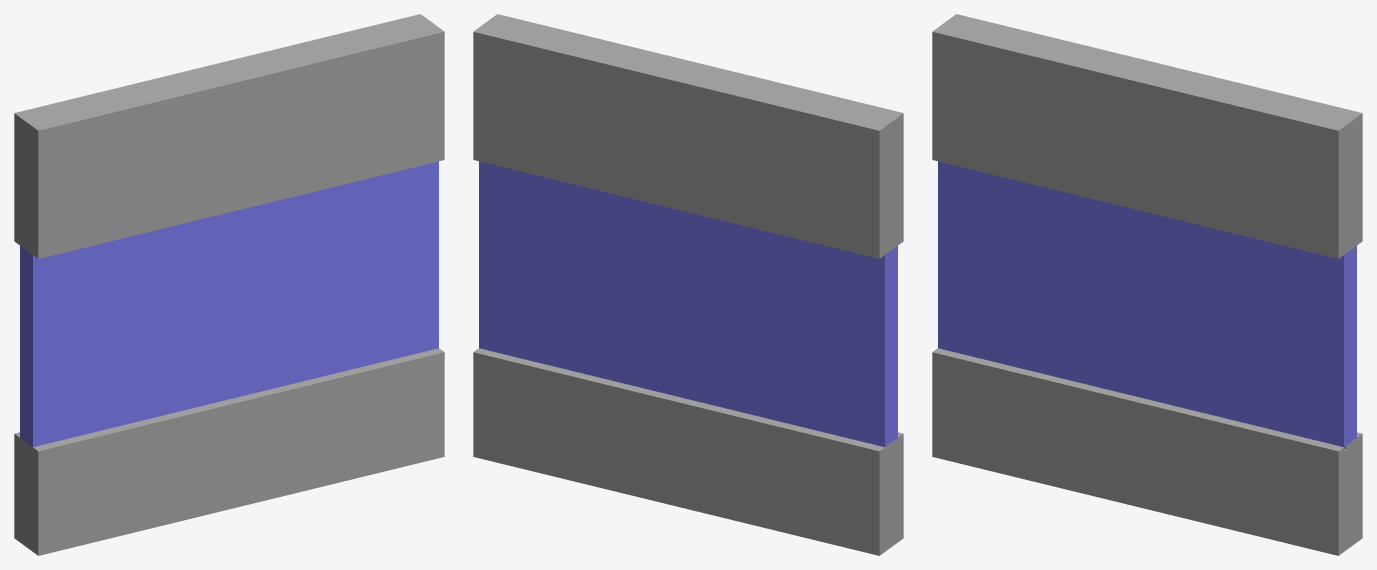
The model's file is Operating_room_Window1-1-2.fbx.
3 views of the same model, side by side, from view 1: azimuth 30°, elevation 25°; view 2: azimuth 150°, elevation 25°; view 3: azimuth 330°, elevation 25° (orthographic).
Parts seen in each view (by area): view 1: Operating room Window1-1-2, Operating room Window1-1-2.002, Operating room Window1-1-2.001; view 2: Operating room Window1-1-2, Operating room Window1-1-2.002, Operating room Window1-1-2.001; view 3: Operating room Window1-1-2, Operating room Window1-1-2.002, Operating room Window1-1-2.001.
Boxes of the visible parts, <box> form: Operating room Window1-1-2: <box>20,161,438,446</box>; Operating room Window1-1-2.002: <box>14,14,444,258</box>; Operating room Window1-1-2.001: <box>14,348,444,555</box>; Operating room Window1-1-2: <box>479,161,897,446</box>; Operating room Window1-1-2.002: <box>473,14,903,258</box>; Operating room Window1-1-2.001: <box>473,348,903,555</box>; Operating room Window1-1-2: <box>938,161,1356,446</box>; Operating room Window1-1-2.002: <box>932,14,1362,258</box>; Operating room Window1-1-2.001: <box>932,348,1362,555</box>.
Size of the model in its own units: 12.6 by 12.6 by 1.3.
